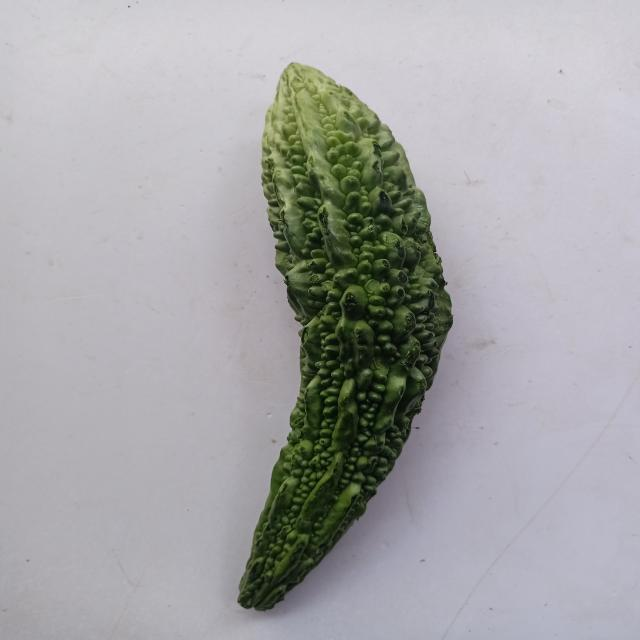Bitter Gourd: (223, 44, 467, 620)
